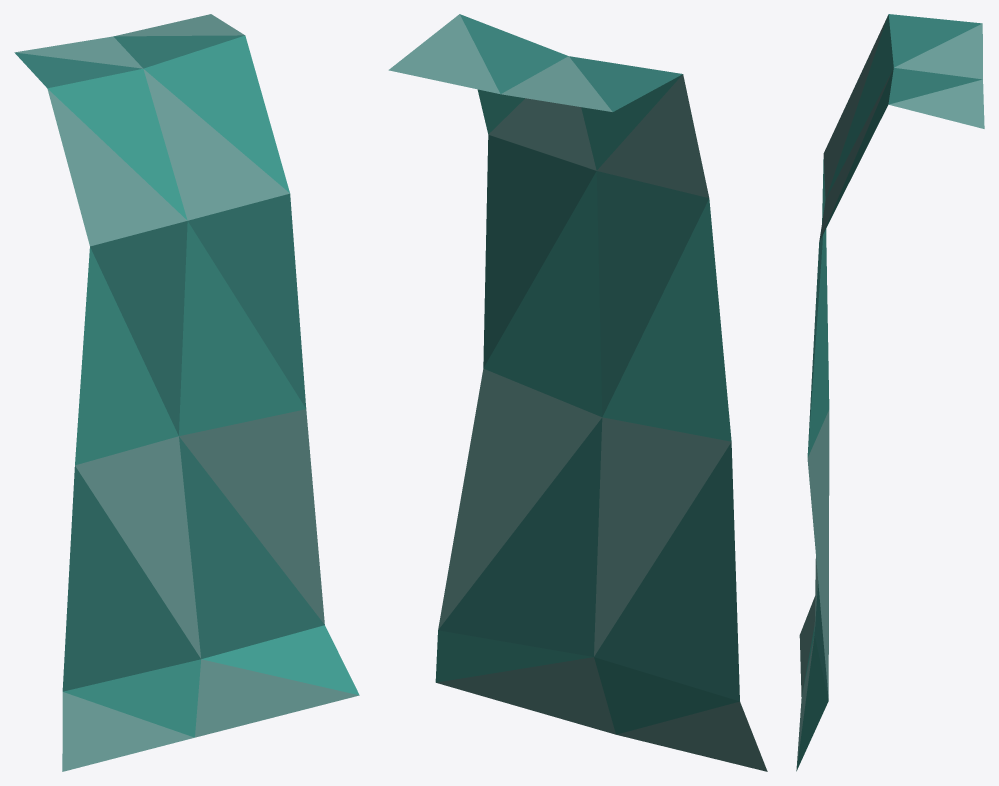
File: Waterfall_big.fbx
3 renders of one model, left to right at view 1: azimuth 30°, elevation 25°; view 2: azimuth 150°, elevation 25°; view 3: azimuth 270°, elevation 25°, orthographic. The views are drawn at different scales.
Parts seen in each view (by area): view 1: Waterfall_big; view 2: Waterfall_big; view 3: Waterfall_big.
Boxes of the visible parts, bbox=[...] form: Waterfall_big: bbox=[14, 14, 359, 771]; Waterfall_big: bbox=[388, 14, 767, 771]; Waterfall_big: bbox=[796, 14, 984, 771].
Size of the model in its own units: 599 by 1255 by 335.
